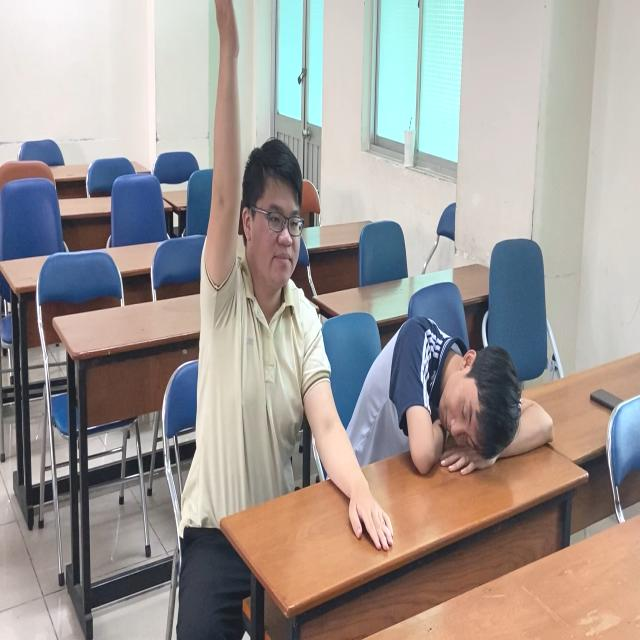raise_hand: (190, 1, 346, 528)
sleep: (360, 304, 538, 478)
